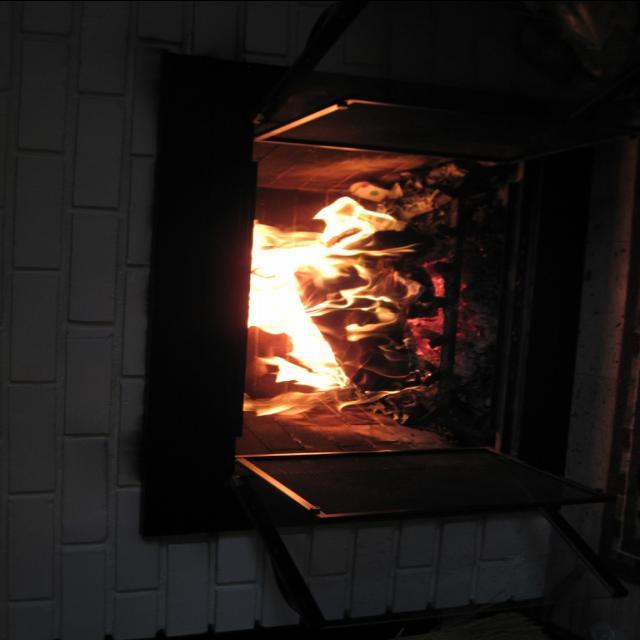Fire: (241, 172, 427, 442)
